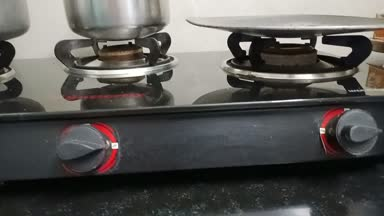flame_gas_off: (226, 35, 384, 158), (50, 33, 177, 176)
